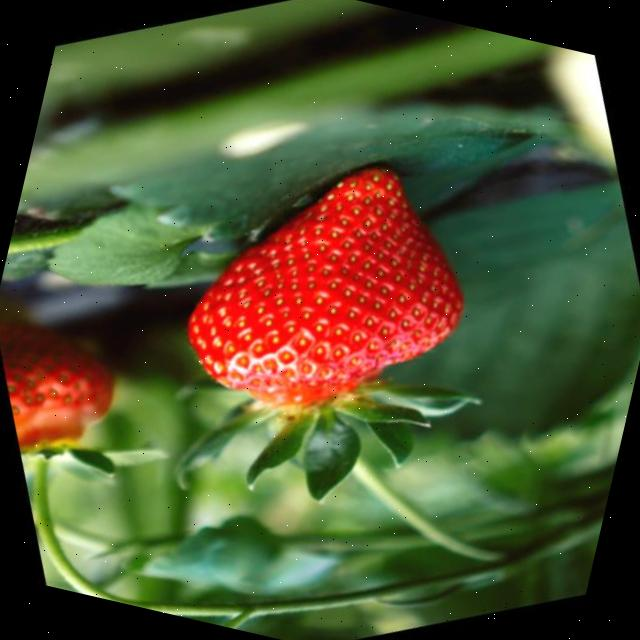strawberry: (187, 167, 464, 406), (0, 322, 114, 449)
